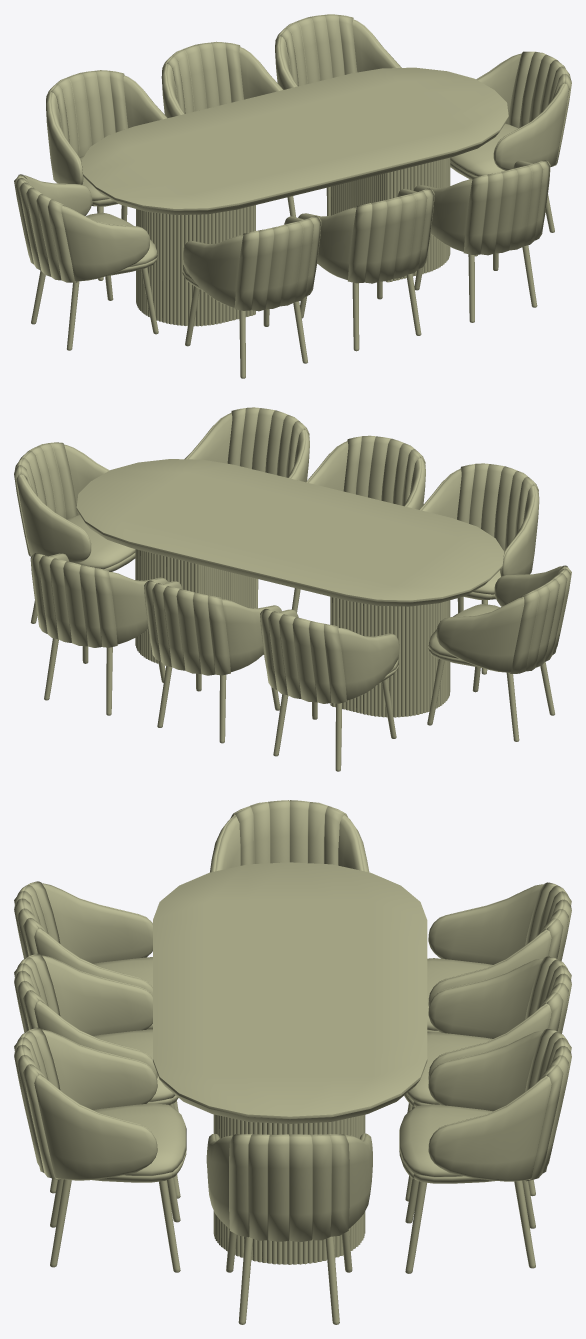
File: LXR_23_chair_Osten_Table__corona.fbx
3 views of the same model, one above another, from view 1: azimuth 30°, elevation 25°; view 2: azimuth 150°, elevation 25°; view 3: azimuth 270°, elevation 25° (orthographic). The views are drawn at different scales.
Visible parts, largest first — view 1: LXR_23_chair_Osten_Table_002, LXR_23_chair_Osten_Table_003, LXR_23_chair_Osten_Table_001; view 2: LXR_23_chair_Osten_Table_002, LXR_23_chair_Osten_Table_003, LXR_23_chair_Osten_Table_001, LXR_23_chair_Osten_Table_004; view 3: LXR_23_chair_Osten_Table_002, LXR_23_chair_Osten_Table_003, LXR_23_chair_Osten_Table_001.
Part boxes in pixels (x1,y1,x2,y2): LXR_23_chair_Osten_Table_002: (14,14,571,311); LXR_23_chair_Osten_Table_003: (81,67,508,326); LXR_23_chair_Osten_Table_001: (31,187,554,378); LXR_23_chair_Osten_Table_002: (14,407,571,703); LXR_23_chair_Osten_Table_003: (76,459,504,717); LXR_23_chair_Osten_Table_001: (30,578,554,771); LXR_23_chair_Osten_Table_004: (157,666,280,743); LXR_23_chair_Osten_Table_002: (14,800,571,1241); LXR_23_chair_Osten_Table_003: (153,862,427,1264); LXR_23_chair_Osten_Table_001: (50,1100,535,1324).
Size of the model in its own units: 296 by 81.59 by 204.
